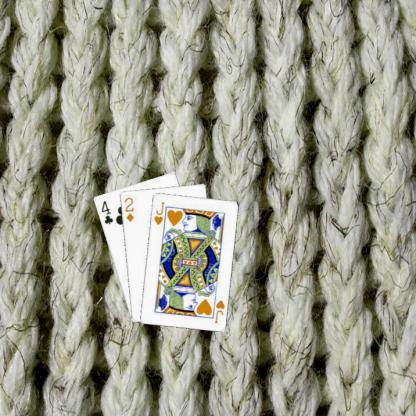2D: (122, 195, 135, 223)
4C: (98, 198, 114, 226)
JH: (152, 199, 166, 226), (212, 298, 225, 324)
